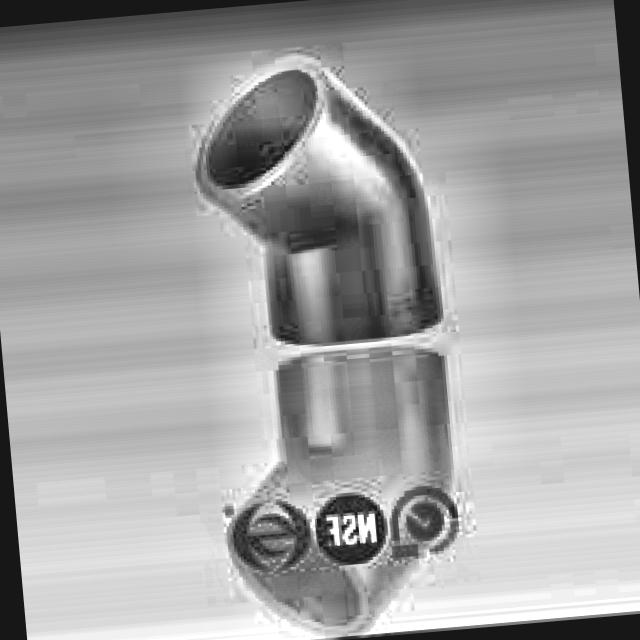ELBOW45: (191, 55, 438, 349)
